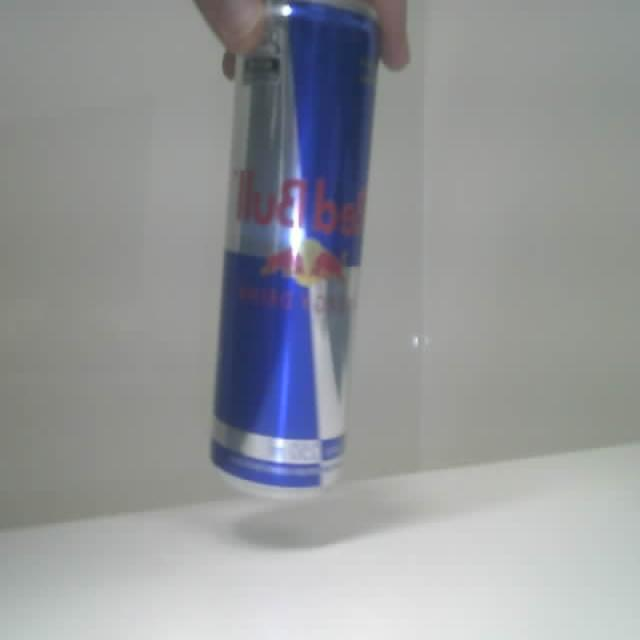redbull can: (212, 0, 378, 497)
